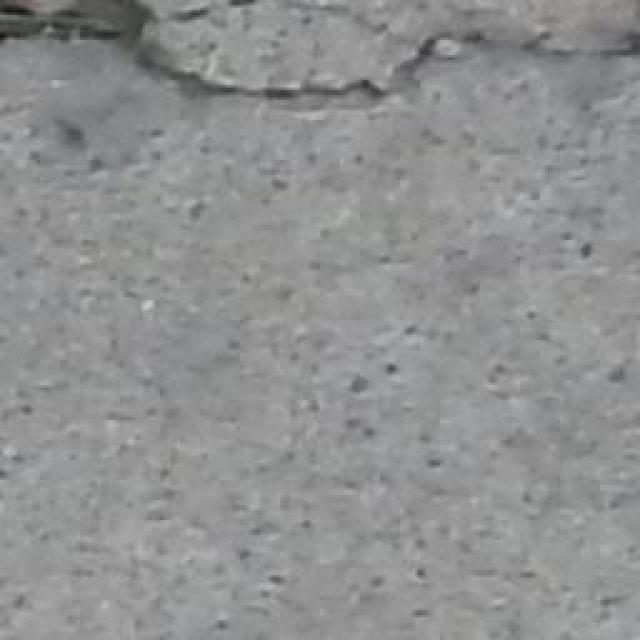concrete-crack: (0, 0, 640, 116)
